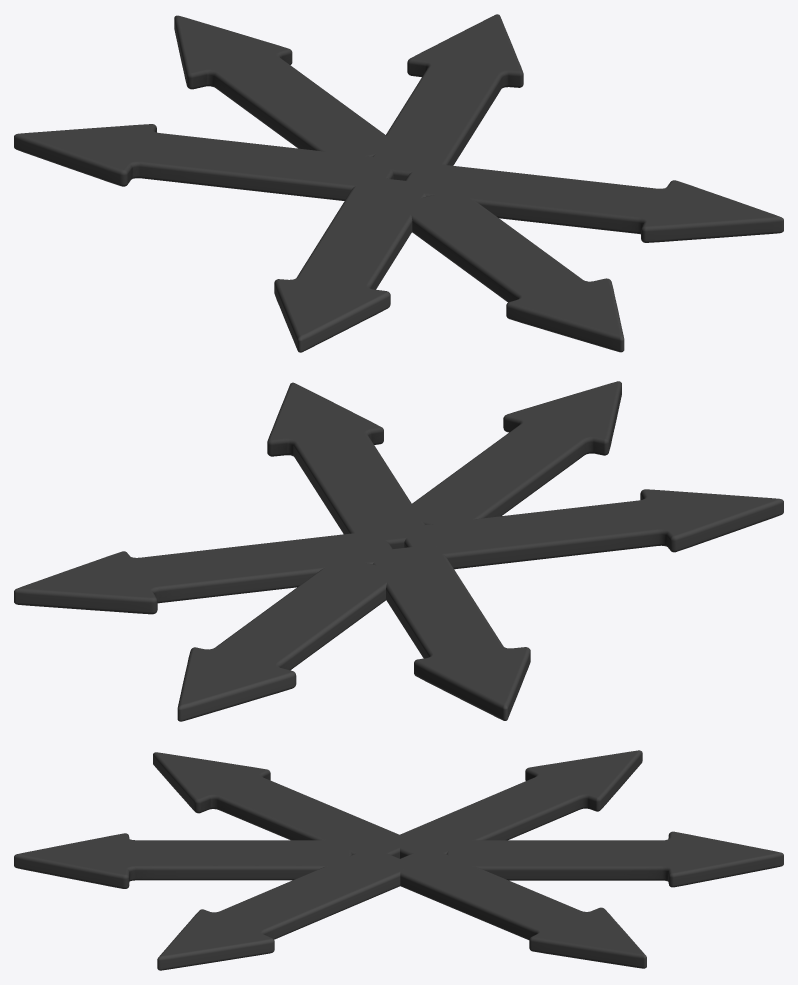
File: arrow.fbx
3 renders of one model, top to bottom at view 1: azimuth 30°, elevation 25°; view 2: azimuth 150°, elevation 25°; view 3: azimuth 270°, elevation 25°, orthographic. The views are drawn at different scales.
Parts seen in each view (by area): view 1: node_id30, node_id38, node_id54, node_id46, node_id74, node_id72; view 2: node_id74, node_id72, node_id46, node_id30, node_id54, node_id38; view 3: node_id54, node_id46, node_id38, node_id72, node_id30, node_id74.
Part boxes in pixels (left/top/right/bottom): node_id30: left=14, top=124, right=396, bottom=200; node_id38: left=401, top=162, right=783, bottom=242; node_id54: left=398, top=194, right=624, bottom=352; node_id46: left=174, top=15, right=400, bottom=156; node_id74: left=274, top=178, right=425, bottom=352; node_id72: left=372, top=14, right=523, bottom=180; node_id74: left=404, top=489, right=783, bottom=569; node_id72: left=14, top=533, right=392, bottom=614; node_id46: left=177, top=557, right=387, bottom=721; node_id30: left=369, top=544, right=530, bottom=720; node_id54: left=411, top=381, right=621, bottom=529; node_id38: left=267, top=382, right=428, bottom=548; node_id54: left=14, top=833, right=351, bottom=888; node_id46: left=446, top=831, right=783, bottom=887; node_id38: left=157, top=847, right=413, bottom=970; node_id72: left=400, top=853, right=646, bottom=968; node_id30: left=386, top=750, right=642, bottom=859; node_id74: left=153, top=752, right=399, bottom=858.
Bounding box in the file's own units: 0.7473 × 0.0236 × 1.16.
Materials: 1 (1 with a texture image).
